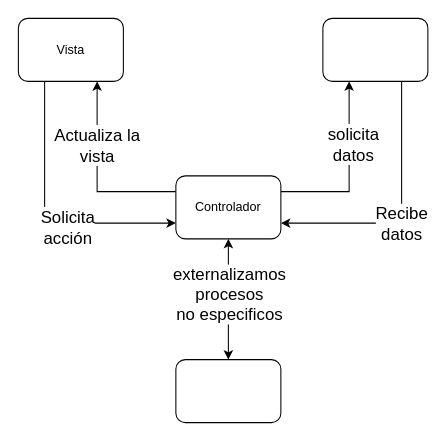
This 446x441 diagram has some shape labels left out. Each missing label, with the box of its shape:
Cordinador: (175, 359, 281, 423)
Modelo: (322, 17, 428, 81)
